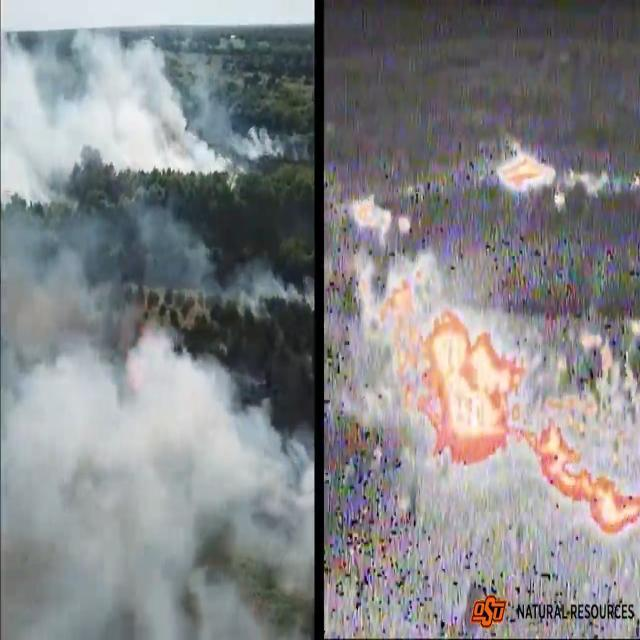fire: (353, 259, 528, 469), (526, 318, 640, 537), (499, 142, 567, 212), (349, 195, 415, 241)
